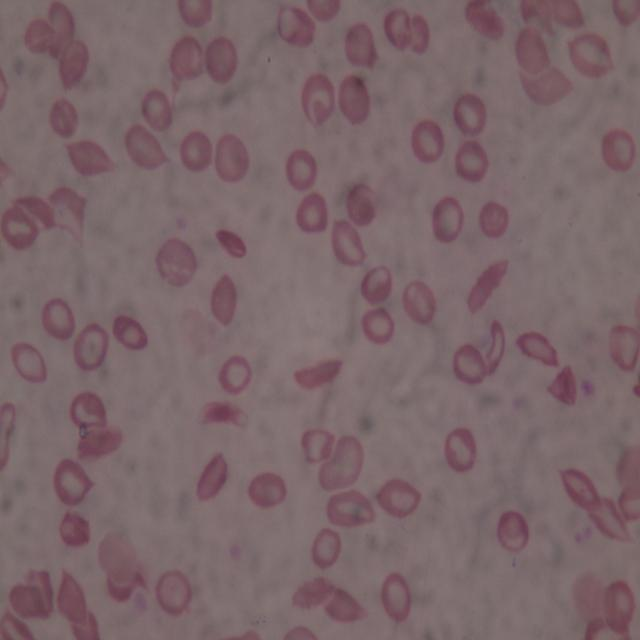Crystal: (464, 256, 509, 312), (197, 398, 252, 429)
Normal: (41, 294, 77, 342), (453, 89, 489, 137), (157, 569, 192, 616), (411, 120, 444, 166), (177, 131, 214, 171), (295, 190, 328, 233), (452, 140, 489, 178), (142, 89, 174, 131), (286, 149, 317, 191), (361, 307, 397, 342), (180, 0, 215, 27)
Others: (319, 436, 367, 491), (123, 122, 171, 172), (99, 526, 138, 586), (55, 565, 92, 627), (513, 31, 556, 82), (63, 134, 115, 176), (555, 466, 603, 511), (155, 238, 197, 288), (53, 458, 96, 506), (74, 422, 126, 461), (72, 320, 110, 371), (600, 579, 635, 634), (193, 451, 229, 503), (374, 477, 422, 516), (402, 276, 437, 328), (517, 73, 573, 105), (202, 36, 240, 83), (278, 4, 315, 52), (339, 72, 373, 124), (601, 126, 637, 175), (170, 36, 207, 83), (430, 195, 464, 246), (302, 71, 332, 128), (330, 220, 368, 265), (58, 40, 91, 91), (8, 340, 46, 384), (46, 1, 76, 56), (213, 131, 246, 181), (606, 321, 639, 371), (345, 182, 380, 229), (464, 0, 506, 39), (495, 509, 532, 553), (379, 569, 408, 625), (444, 427, 478, 474), (1, 205, 38, 247), (450, 342, 487, 384), (10, 582, 48, 622), (343, 22, 375, 69), (319, 590, 367, 621), (248, 474, 290, 508), (28, 569, 58, 616), (70, 391, 108, 428), (546, 362, 577, 407), (312, 524, 345, 566), (382, 4, 410, 52), (59, 508, 91, 550), (361, 264, 394, 304), (1, 402, 18, 478), (212, 270, 236, 323), (106, 570, 148, 600), (114, 313, 148, 350), (478, 200, 510, 239), (484, 320, 507, 374), (23, 17, 56, 54), (300, 426, 332, 464), (217, 357, 250, 391), (217, 226, 248, 261), (292, 578, 332, 605), (406, 14, 432, 55), (50, 98, 78, 136), (617, 448, 639, 496), (551, 2, 585, 31), (66, 610, 102, 637), (607, 0, 639, 26), (307, 0, 341, 22), (624, 484, 640, 522), (280, 627, 322, 640), (230, 626, 265, 640), (0, 625, 16, 639)
Sickle: (514, 328, 562, 371), (564, 38, 614, 77), (596, 494, 635, 542), (292, 356, 346, 390), (48, 184, 89, 228), (14, 193, 50, 234), (329, 490, 376, 520), (572, 31, 614, 64), (520, 1, 555, 40), (326, 499, 372, 528), (587, 513, 627, 543), (4, 610, 35, 640), (579, 617, 606, 640)
